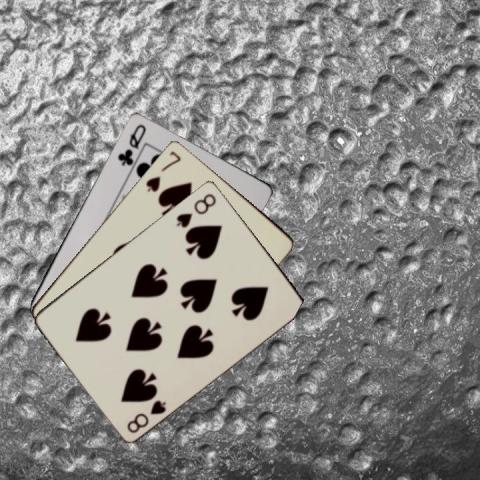7s: (142, 148, 183, 194)
8s: (173, 190, 218, 229), (123, 396, 168, 434)
Qc: (114, 120, 147, 166)
